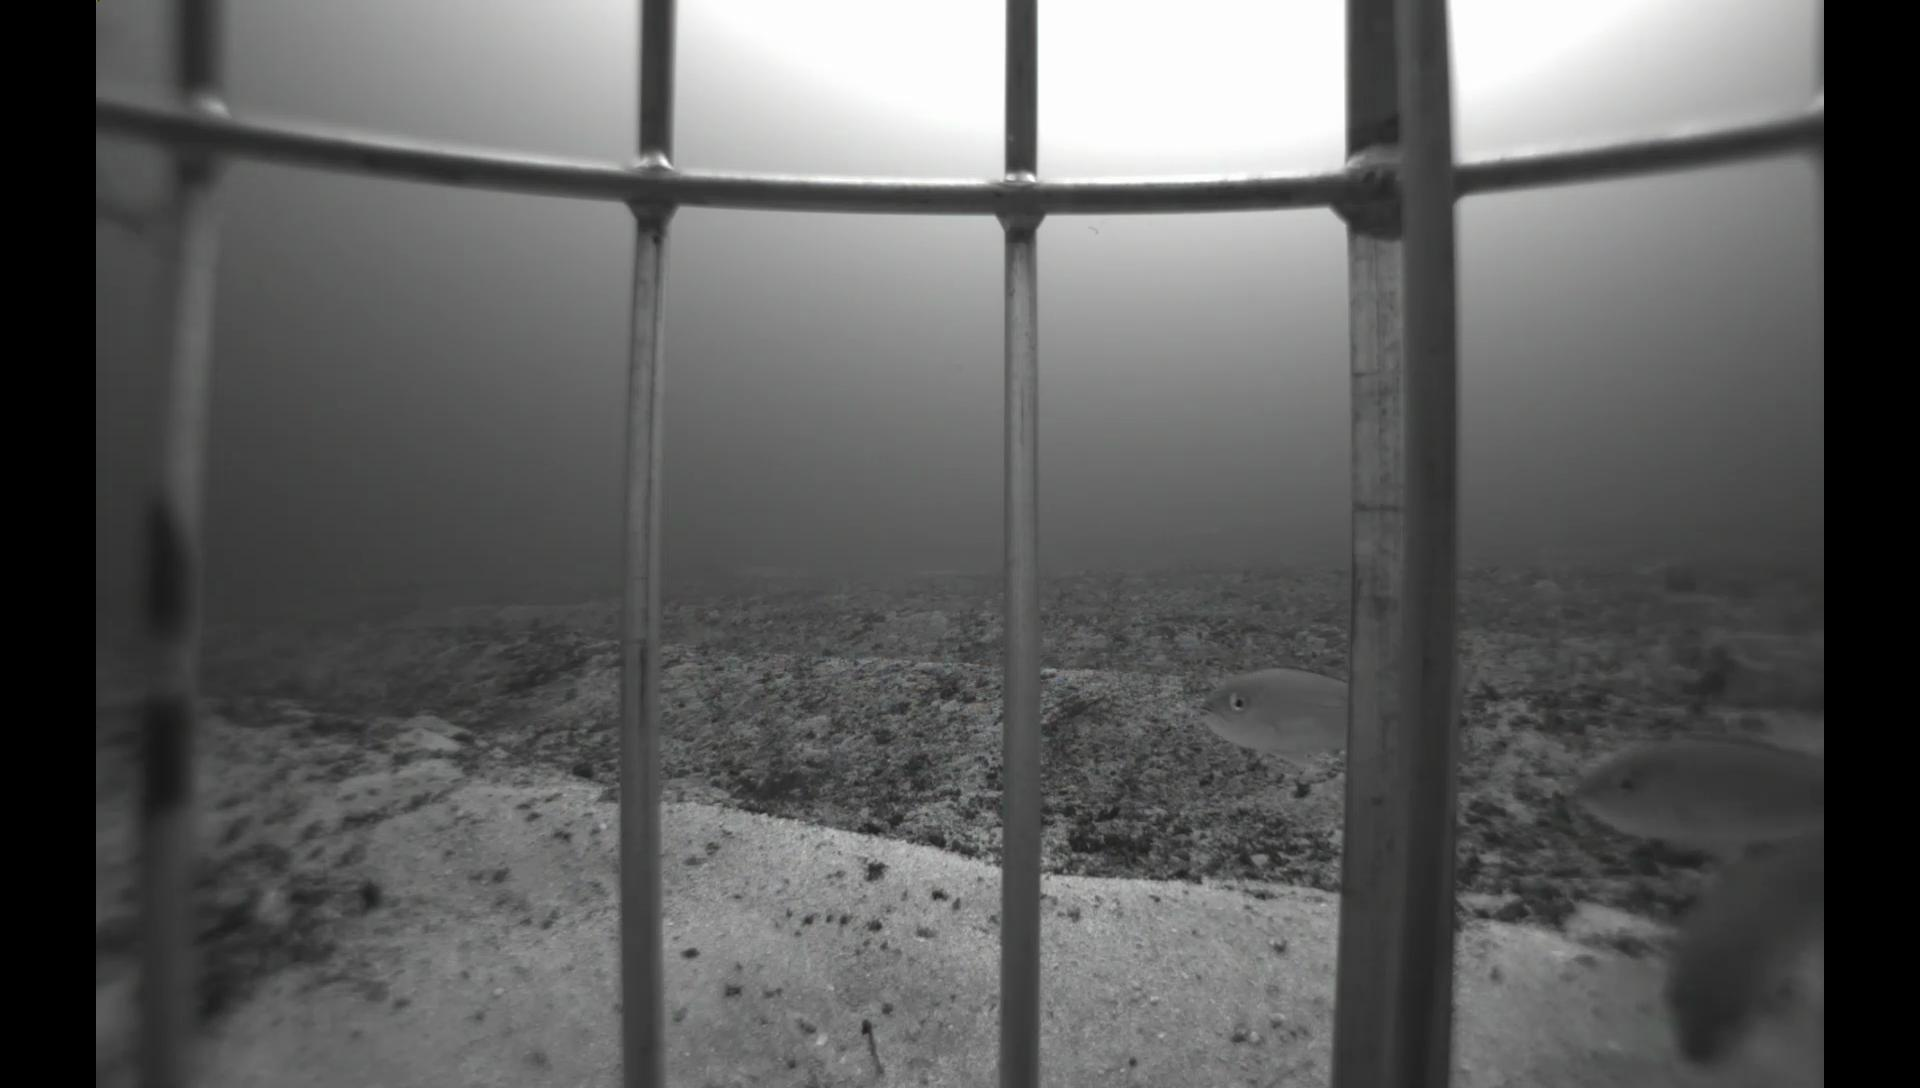RHOMBOPLITESAURORUBENS-170152001: (1188, 644, 1499, 789), (1640, 844, 1821, 1088), (1559, 727, 1822, 849)
SERIOLAFASCIATA-170113103: (94, 153, 161, 262)
